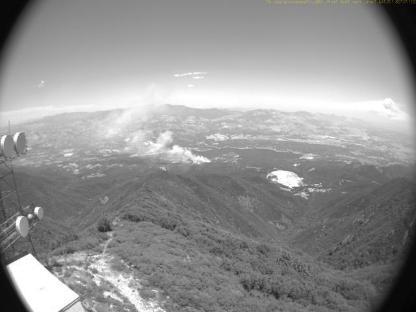smoke: (92, 84, 216, 162)
